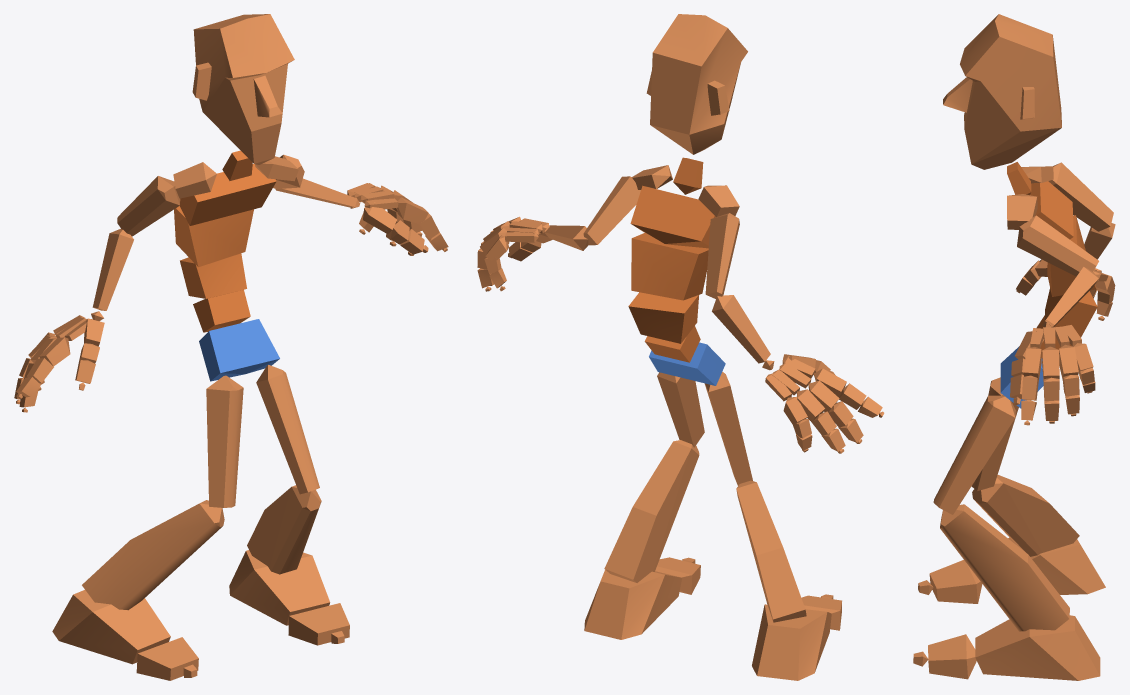
The model's file is prueba243.obj.
3 views of the same model, side by side, from view 1: azimuth 30°, elevation 25°; view 2: azimuth 150°, elevation 25°; view 3: azimuth 270°, elevation 25° (orthographic). The views are drawn at different scales.
Parts seen in each view (by area): view 1: BOPED_Head, BOPED_R_leg, BOPED_R_foot, BOPED_R_foot01, BOPED_R_legup, BOPED_L_leg, BOPED_L_legup, Bone01, Bone04, Bone05, Bone03, BOPED_R_arm_upper (+8 smaller); view 2: BOPED_Head, BOPED_L_leg, BOPED_R_foot01, BOPED_R_leg, BOPED_R_foot, Bone04, Bone05, Bone03, BOPED_R_legup, BOPED_L_legup, BOPED_R_arm_upper, BOPED_L_arm_upper (+9 smaller); view 3: BOPED_Head, BOPED_L_leg, BOPED_R_foot01, BOPED_R_leg, BOPED_L_legup, BOPED_R_foot, BOPED_L_arm_upper, BOPED_R_arm_upper, BOPED_R_foot_toe01, BOPED_R_foot_toe04, Bone05, BOPED_R_legup (+15 smaller).
Boxes of the visible parts, left/top/right/bottom form: BOPED_Head: left=192, top=14, right=294, bottom=164; BOPED_R_leg: left=82, top=500, right=224, bottom=610; BOPED_R_foot: left=52, top=590, right=170, bottom=664; BOPED_R_foot01: left=229, top=550, right=330, bottom=625; BOPED_R_legup: left=206, top=375, right=243, bottom=507; BOPED_L_leg: left=247, top=485, right=321, bottom=574; BOPED_L_legup: left=256, top=365, right=319, bottom=494; Bone01: left=199, top=319, right=279, bottom=381; Bone04: left=174, top=206, right=253, bottom=267; Bone05: left=180, top=164, right=276, bottom=225; Bone03: left=180, top=253, right=246, bottom=298; BOPED_R_arm_upper: left=117, top=176, right=180, bottom=236; BOPED_Head: left=646, top=14, right=747, bottom=154; BOPED_L_leg: left=604, top=440, right=699, bottom=582; BOPED_R_foot01: left=584, top=569, right=682, bottom=639; BOPED_R_leg: left=736, top=480, right=806, bottom=622; BOPED_R_foot: left=752, top=604, right=831, bottom=680; Bone04: left=631, top=233, right=708, bottom=300; Bone05: left=630, top=185, right=715, bottom=248; Bone03: left=628, top=292, right=698, bottom=343; BOPED_R_legup: left=704, top=372, right=752, bottom=485; BOPED_L_legup: left=657, top=372, right=704, bottom=447; BOPED_R_arm_upper: left=705, top=213, right=739, bottom=298; BOPED_L_arm_upper: left=583, top=176, right=640, bottom=245; BOPED_Head: left=943, top=14, right=1061, bottom=169; BOPED_L_leg: left=940, top=504, right=1069, bottom=631; BOPED_R_foot01: left=975, top=615, right=1100, bottom=680; BOPED_R_leg: left=972, top=475, right=1079, bottom=556; BOPED_L_legup: left=933, top=395, right=1015, bottom=514; BOPED_R_foot: left=1008, top=537, right=1105, bottom=594; BOPED_L_arm_upper: left=1017, top=215, right=1098, bottom=276; BOPED_R_arm_upper: left=1048, top=162, right=1113, bottom=231; BOPED_R_foot_toe01: left=929, top=560, right=982, bottom=603; BOPED_R_foot_toe04: left=928, top=634, right=976, bottom=679; Bone05: left=1030, top=181, right=1073, bottom=239; BOPED_R_legup: left=971, top=377, right=1018, bottom=491.
Size of the model in its own units: 130 by 181 by 53.38.
